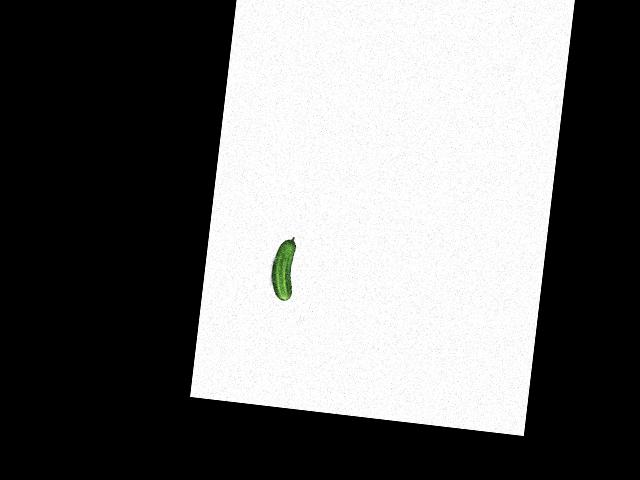cucumber: (268, 235, 297, 301)
